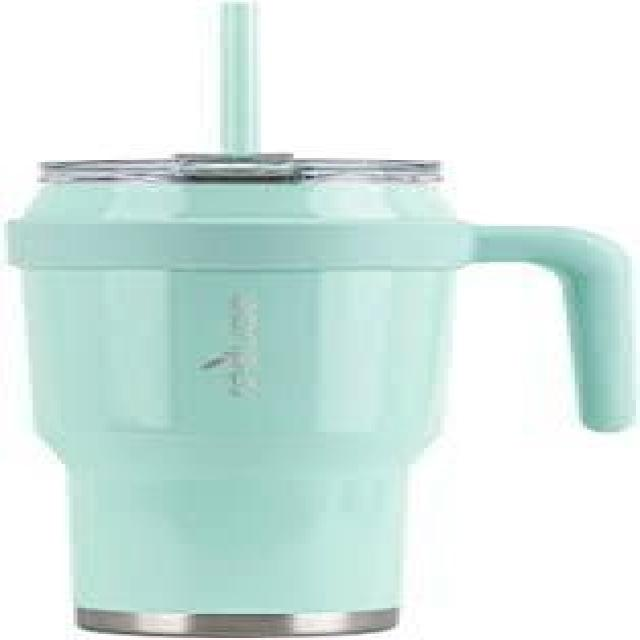bottle: (4, 4, 636, 640)
